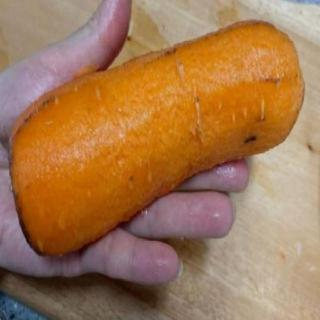carrot: (7, 15, 307, 264)
